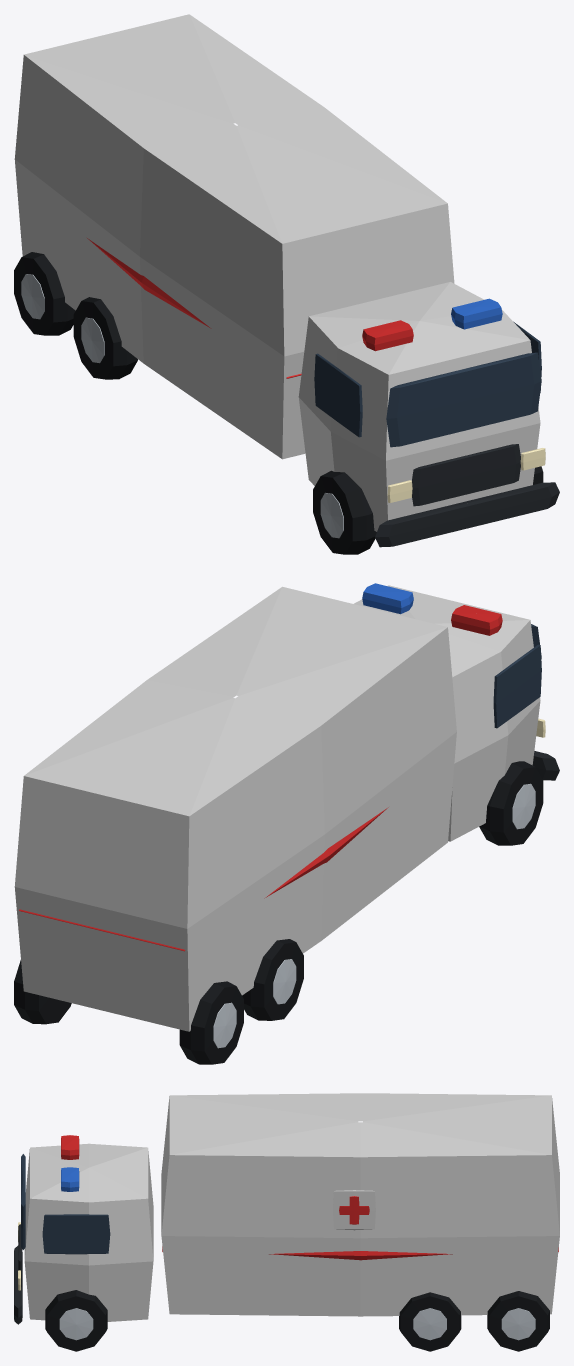
The model's file is s-ambulance.glb.
The picture shows the model from 3 angles, top to bottom: view 1: azimuth 30°, elevation 25°; view 2: azimuth 150°, elevation 25°; view 3: azimuth 270°, elevation 25°; orthographic projection. The views are drawn at different scales.
Visible parts, largest first — view 1: p; view 2: p; view 3: p.
Part boxes in pixels (x1,y1,x2,y2): p: (14,14,559,554); p: (14,583,559,1064); p: (14,1093,559,1351).
Bounding box in the file's own units: 2.62 × 3.45 × 8.64.
